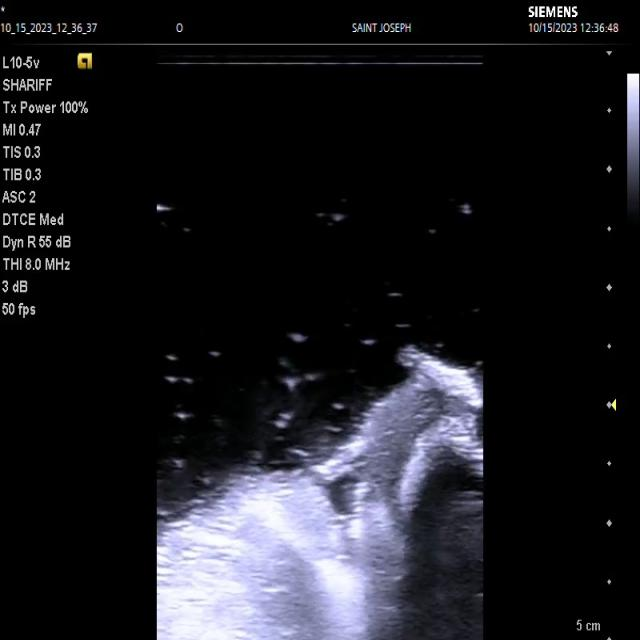tissue: (157, 347, 482, 640)
